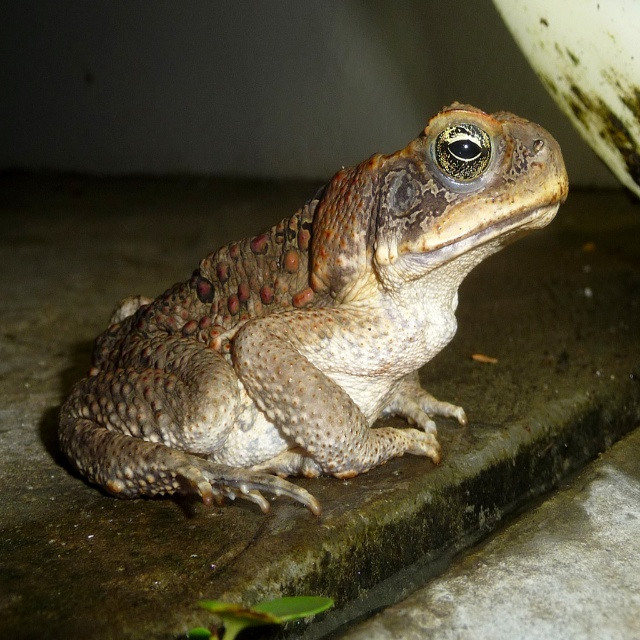Frog: (54, 102, 566, 516)
